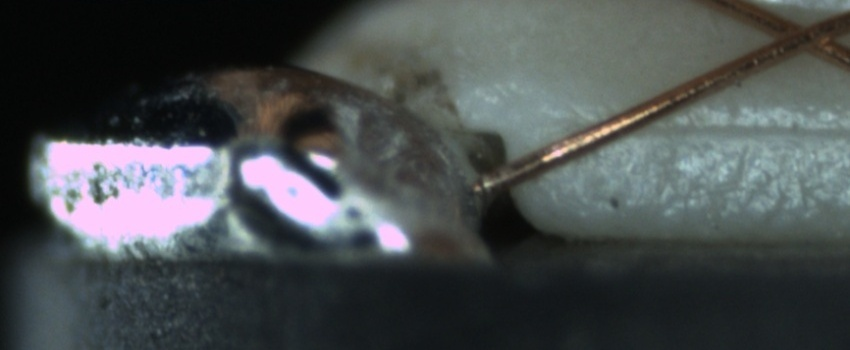CL: (754, 5, 845, 63)
DL: (564, 94, 850, 159)
